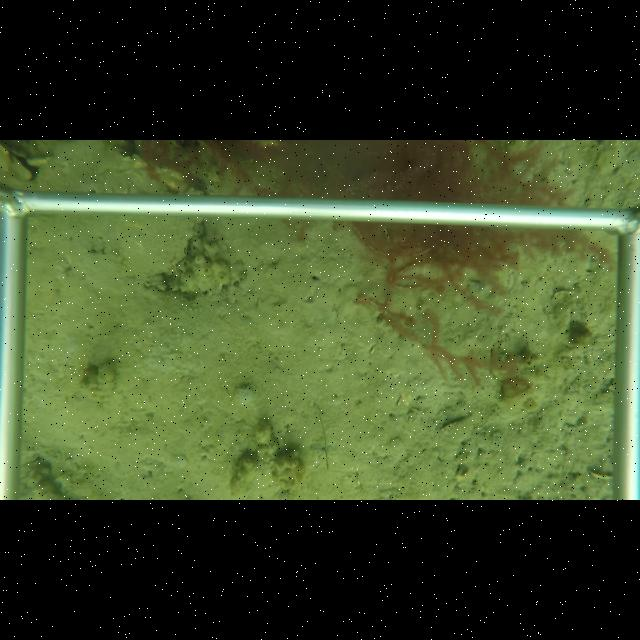Oyster-Closed: (112, 214, 198, 276)
